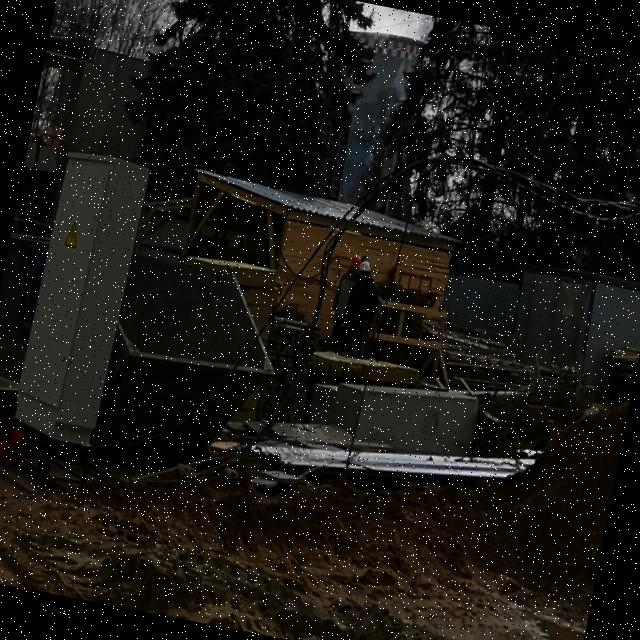Helmet: (349, 255, 363, 277), (359, 261, 374, 279)
